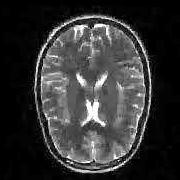Normal_Brain: (1, 1, 174, 180)
